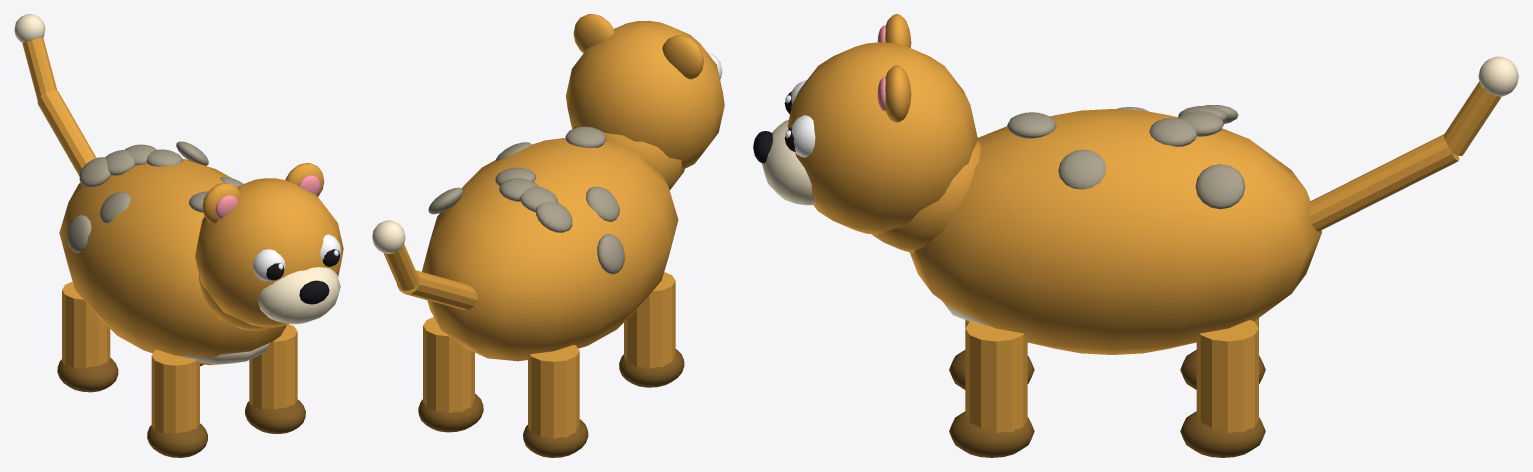
The picture shows the model from 3 angles, left to right: view 1: azimuth 30°, elevation 25°; view 2: azimuth 150°, elevation 25°; view 3: azimuth 270°, elevation 25°; orthographic projection. The views are drawn at different scales.
Parts seen in each view (by area): view 1: Jaguar; view 2: Jaguar; view 3: Jaguar.
Boxes of the visible parts, <box> form: Jaguar: <box>14,14,343,457</box>; Jaguar: <box>372,14,724,457</box>; Jaguar: <box>753,14,1518,457</box>.
Size of the model in its own units: 1.7 by 2.69 by 4.92.
1 material, 1 textured.
